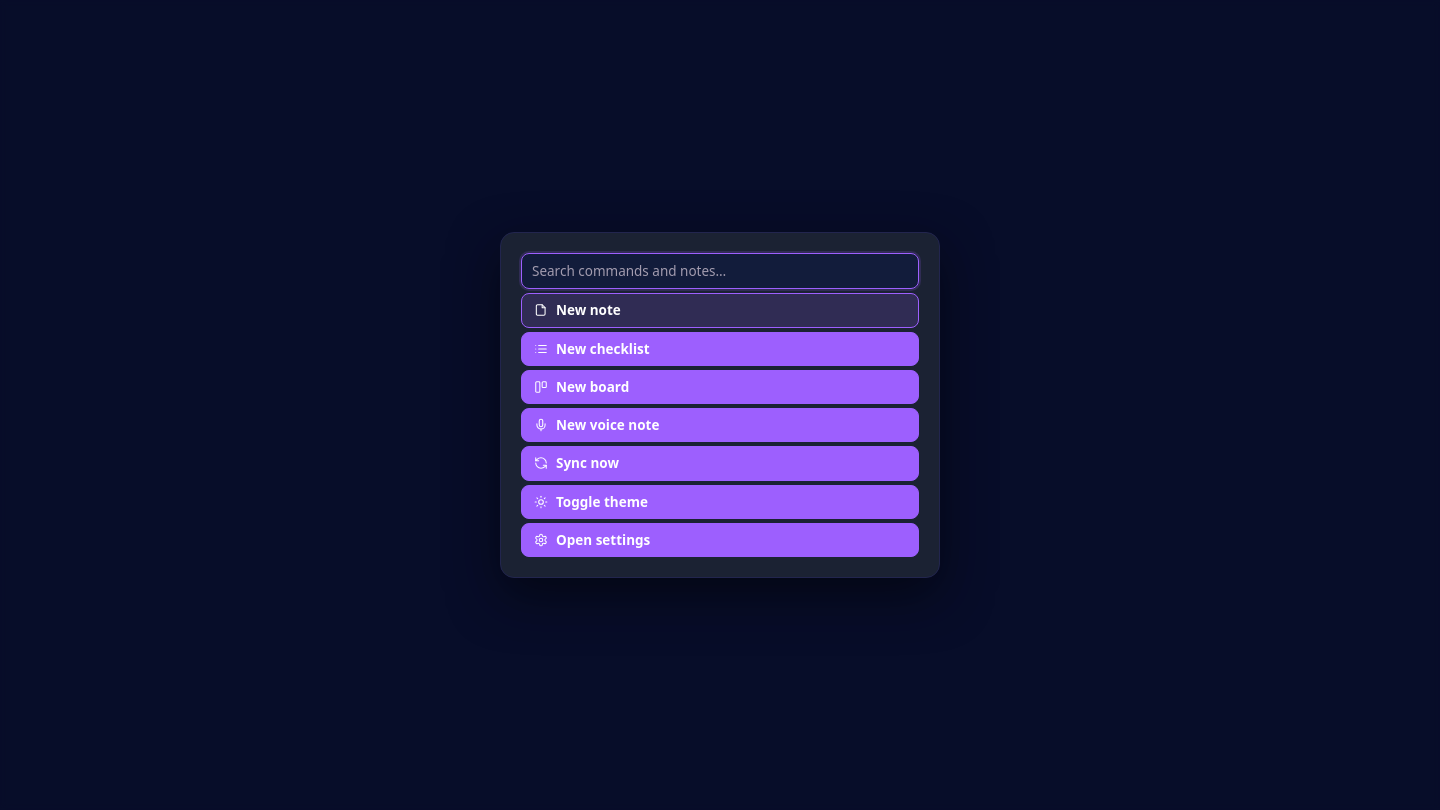
Test case: CommandBar — capture-zone exclusion (P1 T3) › search results exclude capture-zone notes
Step 1. Type "cap" into the field with placeholder "Search commands and notes…" → point(720, 271), box [521,253,919,289]
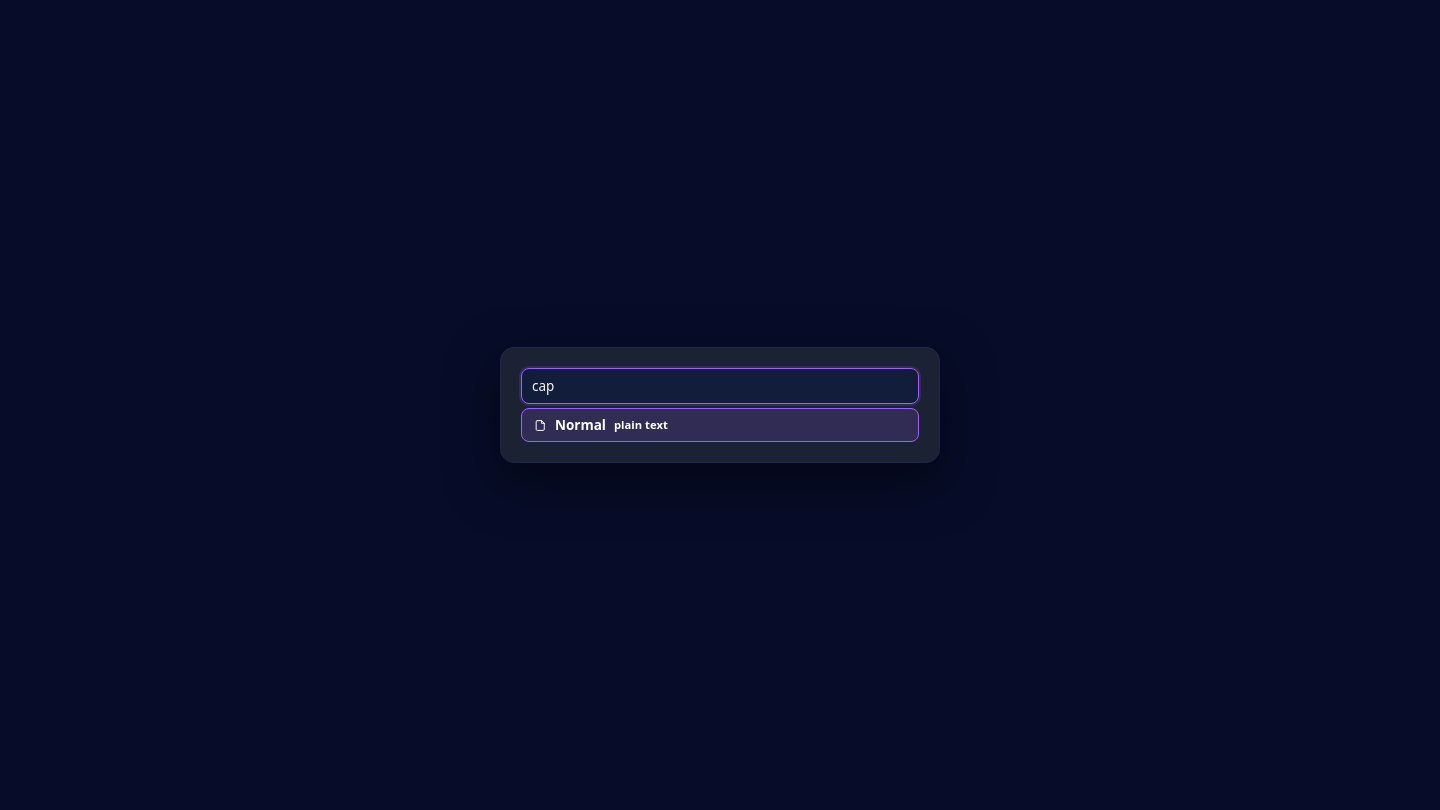
Expected: the text "Normal" is shown, [555,415,606,435]
